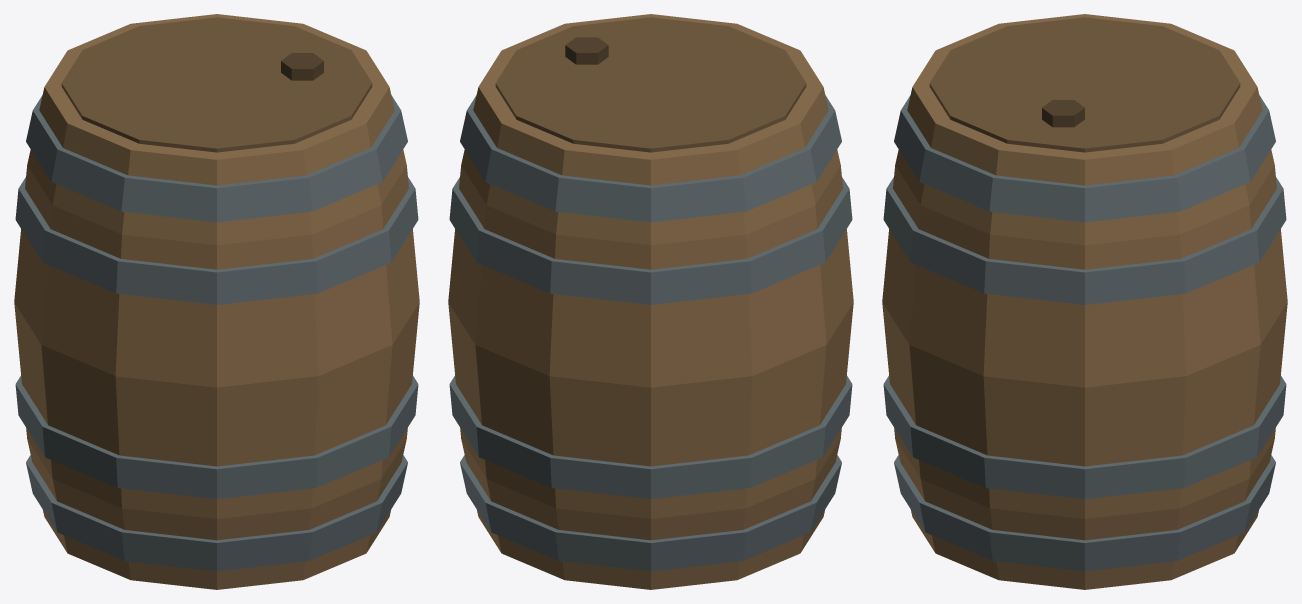
The model's file is barrel.glb.
3 views of the same model, side by side, from view 1: azimuth 30°, elevation 25°; view 2: azimuth 150°, elevation 25°; view 3: azimuth 270°, elevation 25° (orthographic).
Visible parts, largest first — view 1: barrel-m; view 2: barrel-m; view 3: barrel-m.
Boxes of the visible parts, bbox=[...] form: barrel-m: bbox=[14, 14, 419, 589]; barrel-m: bbox=[448, 14, 853, 589]; barrel-m: bbox=[882, 14, 1287, 589].
Size of the model in its own units: 0.94 by 1.14 by 0.94.
